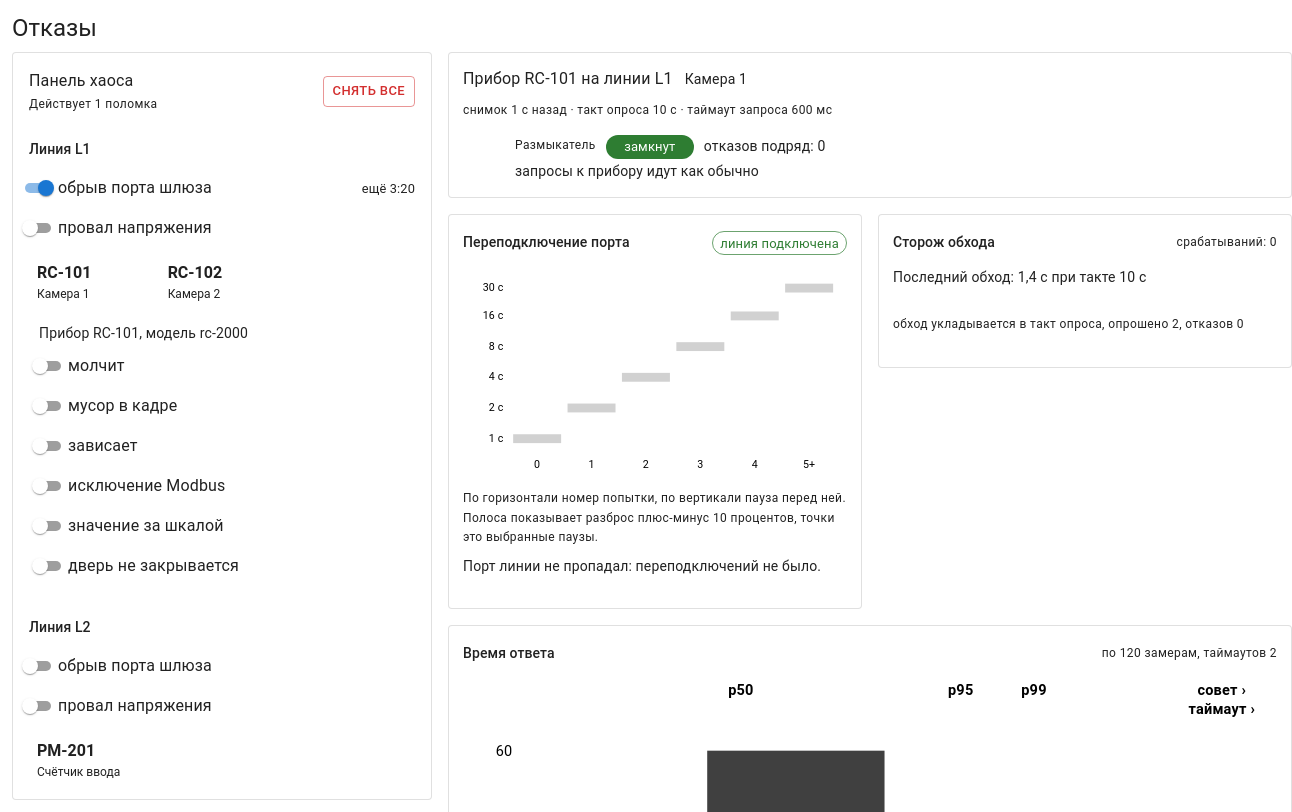
Test: лаборатория отказов › отказ внесения виден рядом, даже если следом прошло другое действие
Click the switch labelled "молчит".
click(78, 366)  # box [32,356,125,375]
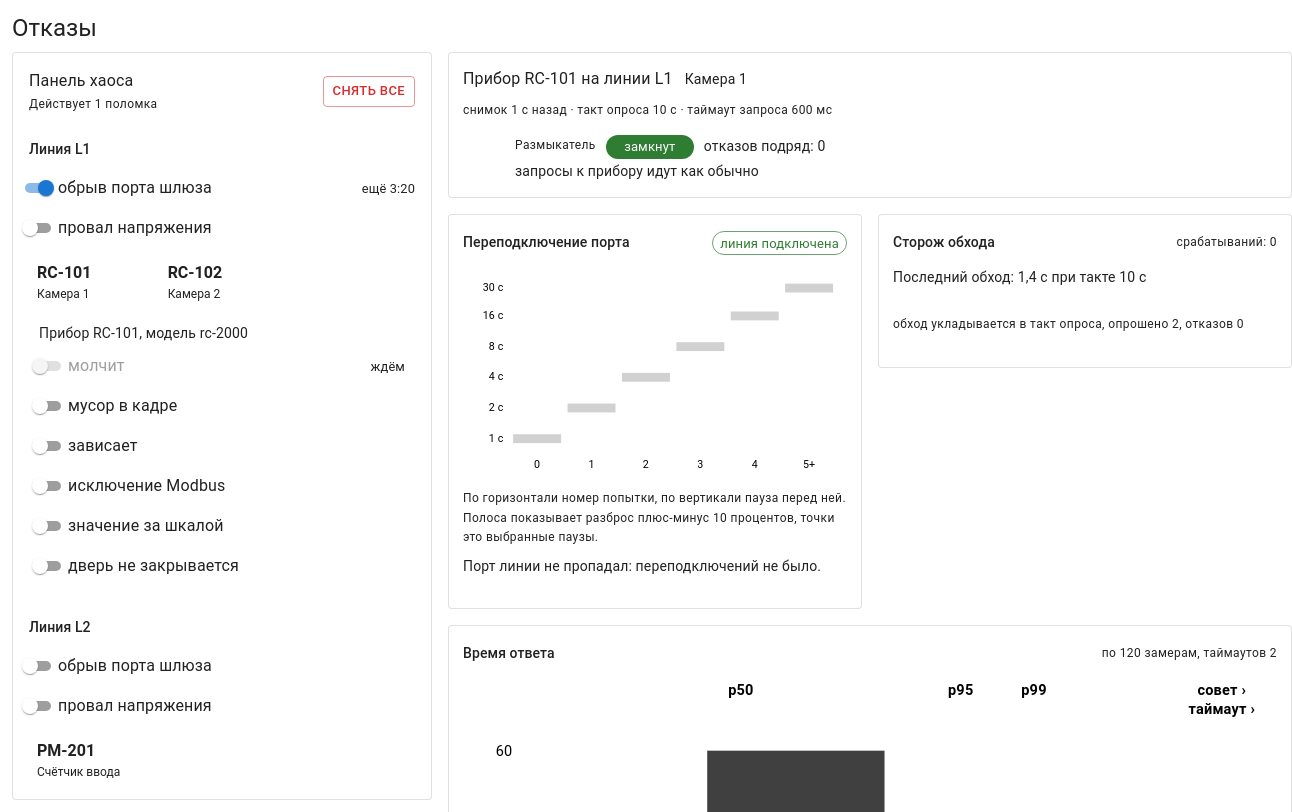
Expected: the switch labelled "молчит" is disabled, [32,356,125,375]
Click the switch labelled "мусор в кадре".
click(105, 406)  # box [32,396,177,415]
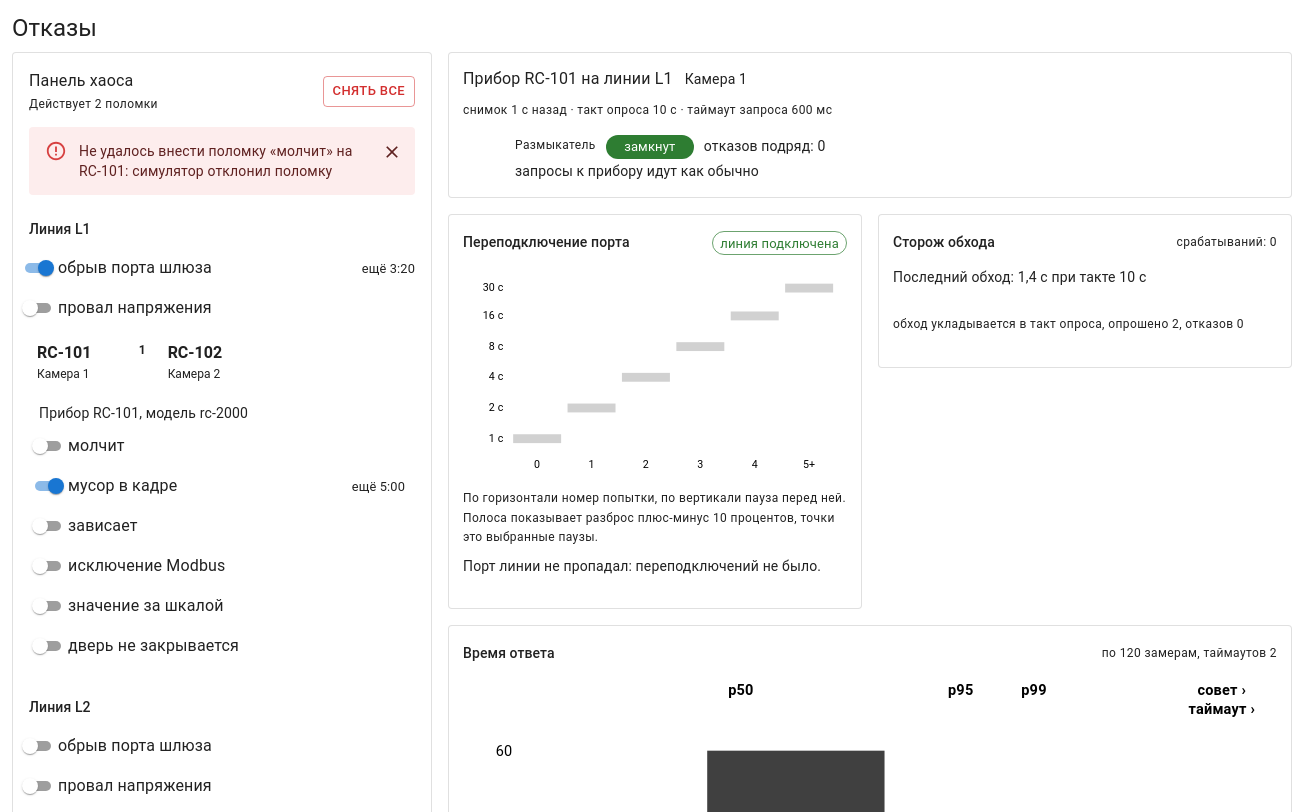
Expected: the switch labelled "молчит" is not checked, [32,436,125,455]
Expected: the switch labelled "мусор в кадре" is checked, [35,476,177,495]
Expected: the message "Не удалось внести поломку «молчит» на RC-101: симулятор отклонил поломку" is shown, [29,127,415,195]
